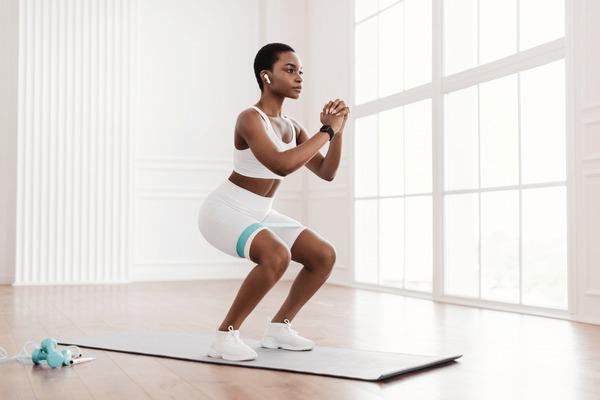Prepare: (197, 41, 349, 361)
